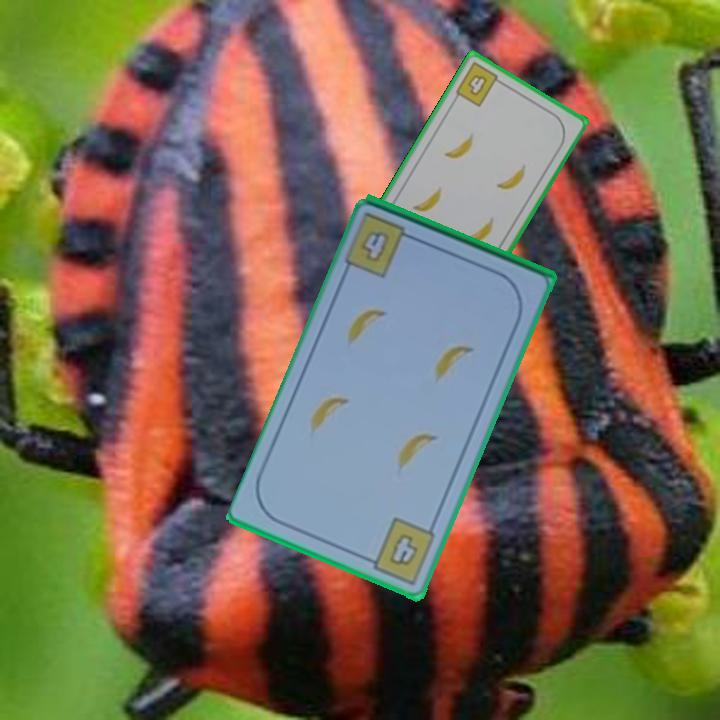4b: (361, 514, 439, 588), (452, 58, 506, 110), (357, 228, 393, 266)
